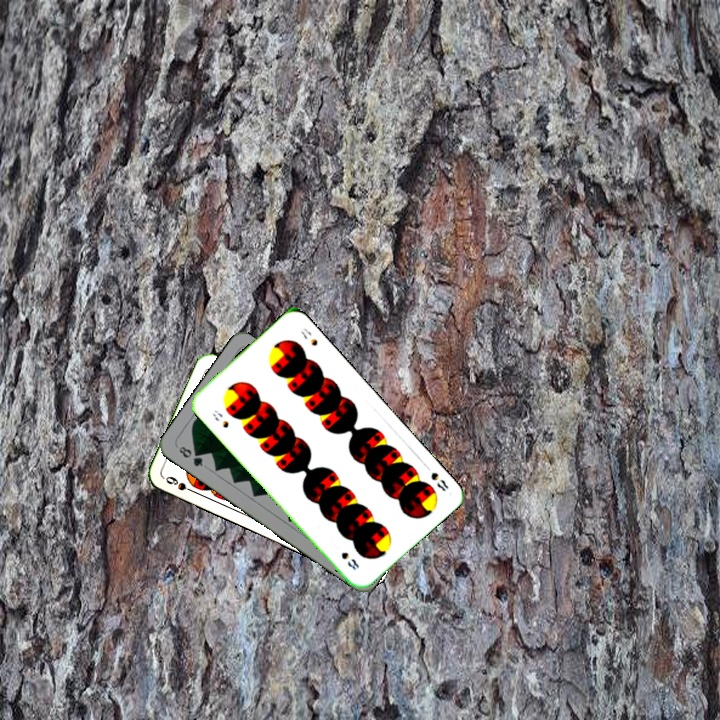G8: (175, 442, 205, 469)
S8: (421, 460, 451, 494), (208, 406, 231, 431)
S9: (162, 472, 199, 496)
